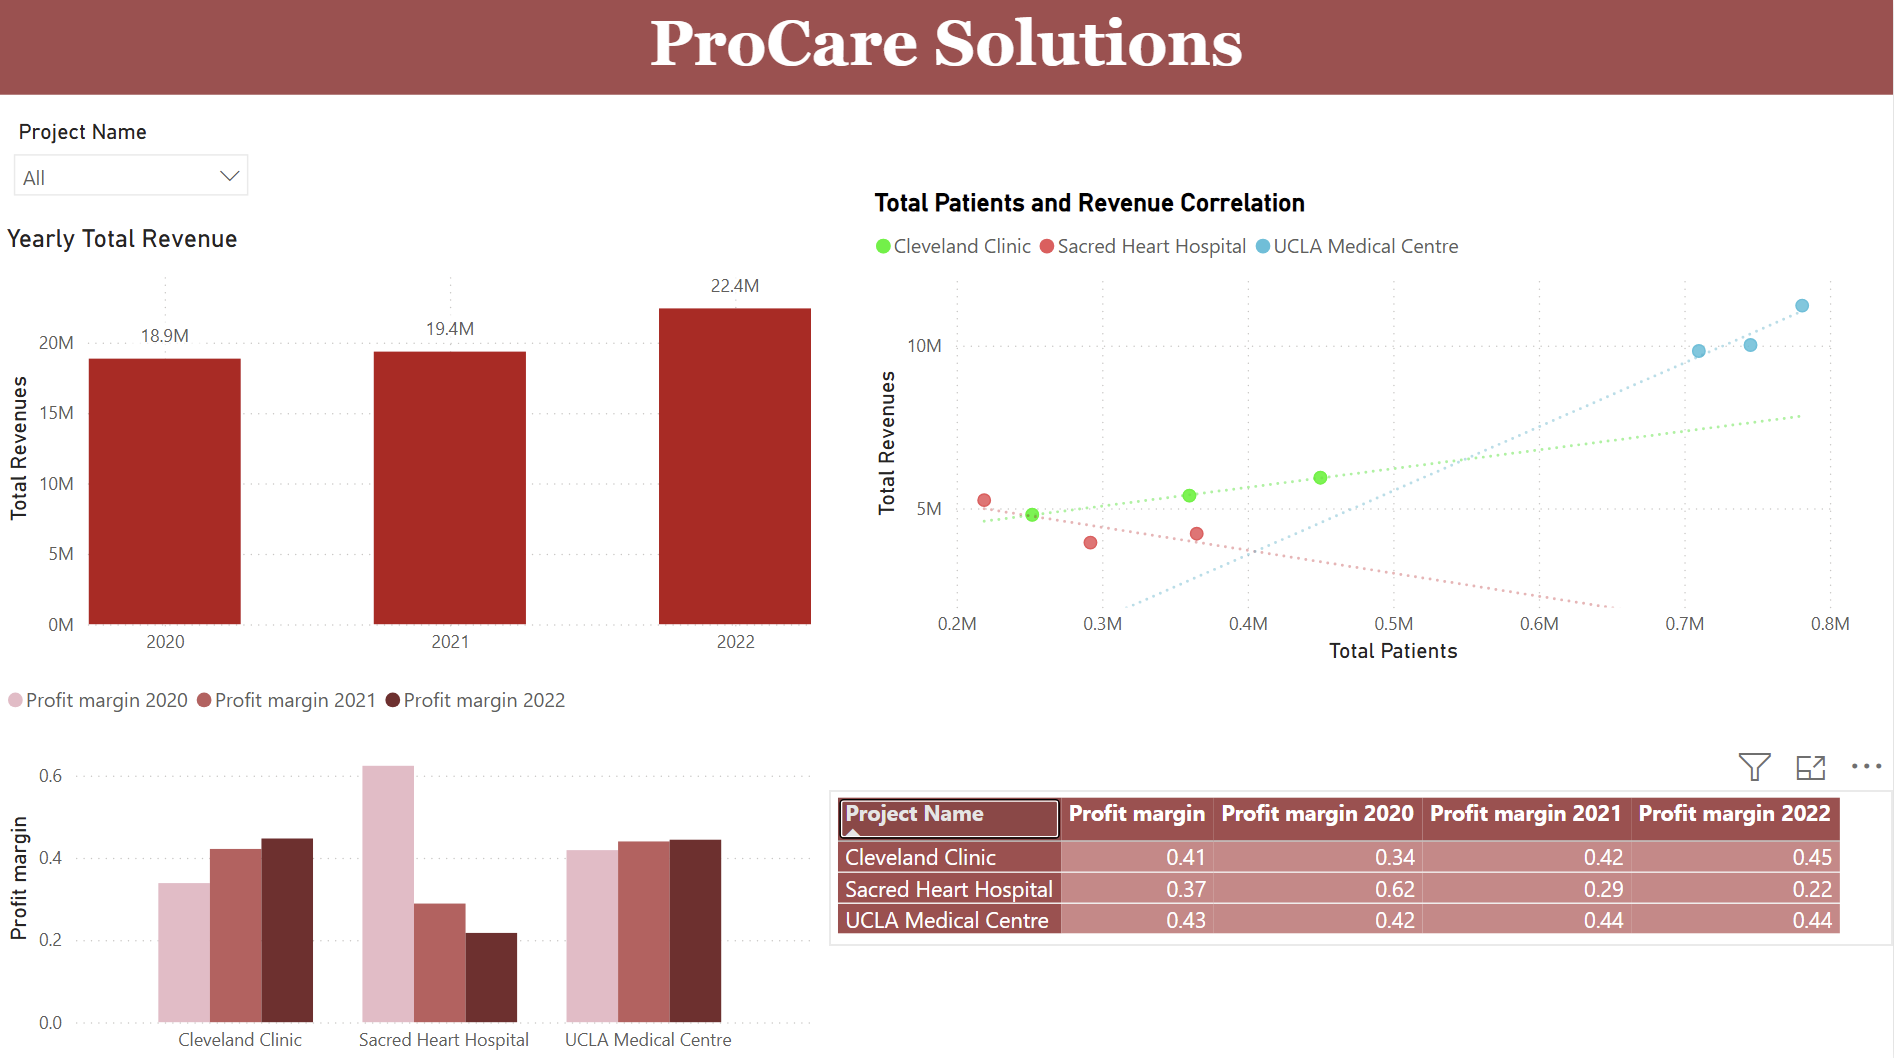

This screenshot's page, from the dashboard's own definition file:
{"tool":"powerbi","page":{"name":"Revenues & Profit","canvas":[1280,720],"ordinal":0},"visuals":[{"type":"lineStackedColumnComboChart","title":"Yearly Total Revenue","fields":{"Category":["Revenues.Fiscal Year"],"Y":["Revenues.Total_Revenue"]},"box":[0,152,553.8,300.4],"z":0},{"type":"slicer","fields":{"Values":["Costs.Project Name"]},"box":[0,75.7,178.6,75.7],"z":1000},{"type":"textbox","box":[0,0,1280,63.9],"z":2000},{"type":"tableEx","title":"Profit margin","fields":{"Values":["Revenues.Project Name","Revenues.Profit margin","Revenues.Profit margin 2020","Revenues.Profit margin 2021","Revenues.Profit margin 2022"]},"box":[561,534.5,719,105],"z":3000},{"type":"lineClusteredColumnComboChart","title":"Profit margin by Project name","fields":{"Category":["Revenues.Project Name"],"Y":["Revenues.Profit margin 2020","Revenues.Profit margin 2021","Revenues.Profit margin 2022"]},"box":[0,452.4,553.9,267.8],"z":4000},{"type":"scatterChart","title":"Total Patients and Revenue Correlation","fields":{"Y":["Revenues.Total Revenues"],"Series":["ProjectDetail.Project name"],"X":["Patients.Total Patients"]},"box":[586.3,126.7,669.6,325.7],"z":5000}]}

Visuals, with their boxes in screenshot pixels (x1, y1, x2, y2), scaled from the page's 1280x720 canvas onto the 1894x1058 screenshot:
"Yearly Total Revenue" lineStackedColumnComboChart: pyautogui.locateOnScreen(0, 223, 819, 665)
slicer - Costs.Project Name: pyautogui.locateOnScreen(0, 111, 264, 222)
textbox: pyautogui.locateOnScreen(0, 0, 1893, 94)
"Profit margin" tableEx: pyautogui.locateOnScreen(830, 785, 1893, 940)
"Profit margin by Project name" lineClusteredColumnComboChart: pyautogui.locateOnScreen(0, 665, 820, 1057)
"Total Patients and Revenue Correlation" scatterChart: pyautogui.locateOnScreen(868, 186, 1858, 665)
